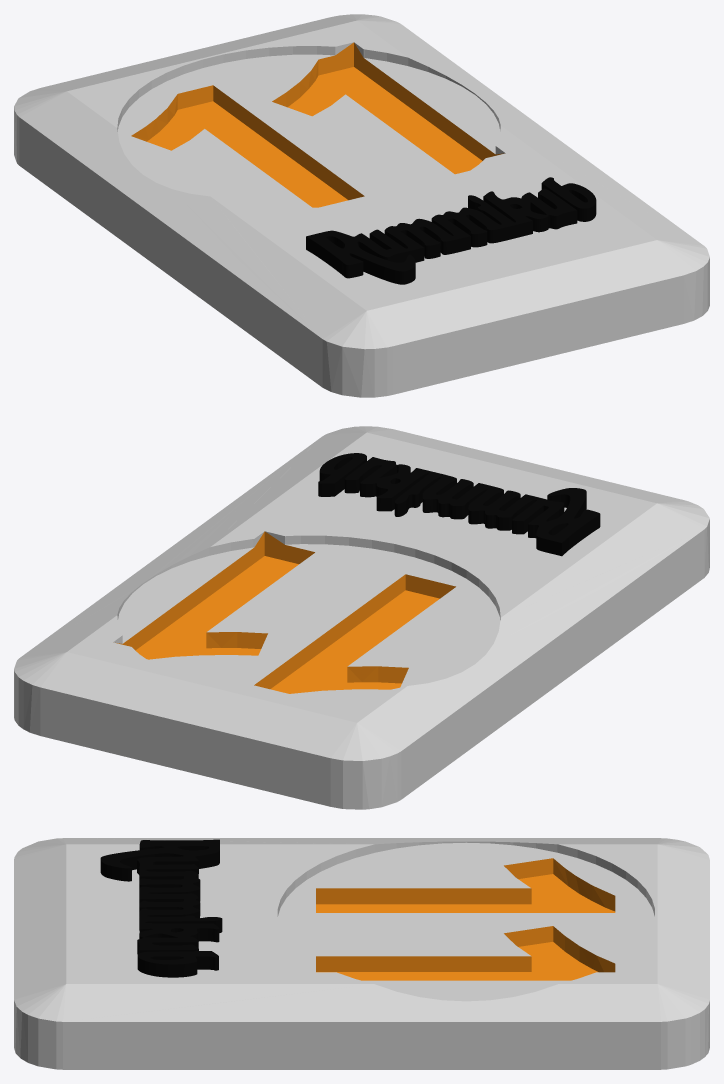
The picture shows the model from 3 angles, top to bottom: view 1: azimuth 30°, elevation 25°; view 2: azimuth 150°, elevation 25°; view 3: azimuth 270°, elevation 25°; orthographic projection.
Visible parts, largest first — view 1: Rummikub 11 Fixed, Rummikub 1 Fixed.001; view 2: Rummikub 11 Fixed, Rummikub 1 Fixed.001; view 3: Rummikub 11 Fixed, Rummikub 1 Fixed.001.
Part boxes in pixels (bbox=[...]): Rummikub 11 Fixed: bbox=[14, 14, 709, 397]; Rummikub 1 Fixed.001: bbox=[306, 177, 596, 284]; Rummikub 11 Fixed: bbox=[14, 426, 709, 809]; Rummikub 1 Fixed.001: bbox=[318, 453, 600, 556]; Rummikub 11 Fixed: bbox=[14, 838, 709, 1069]; Rummikub 1 Fixed.001: bbox=[100, 839, 222, 977].
Size of the model in its own units: 2499 by 487 by 4000.
